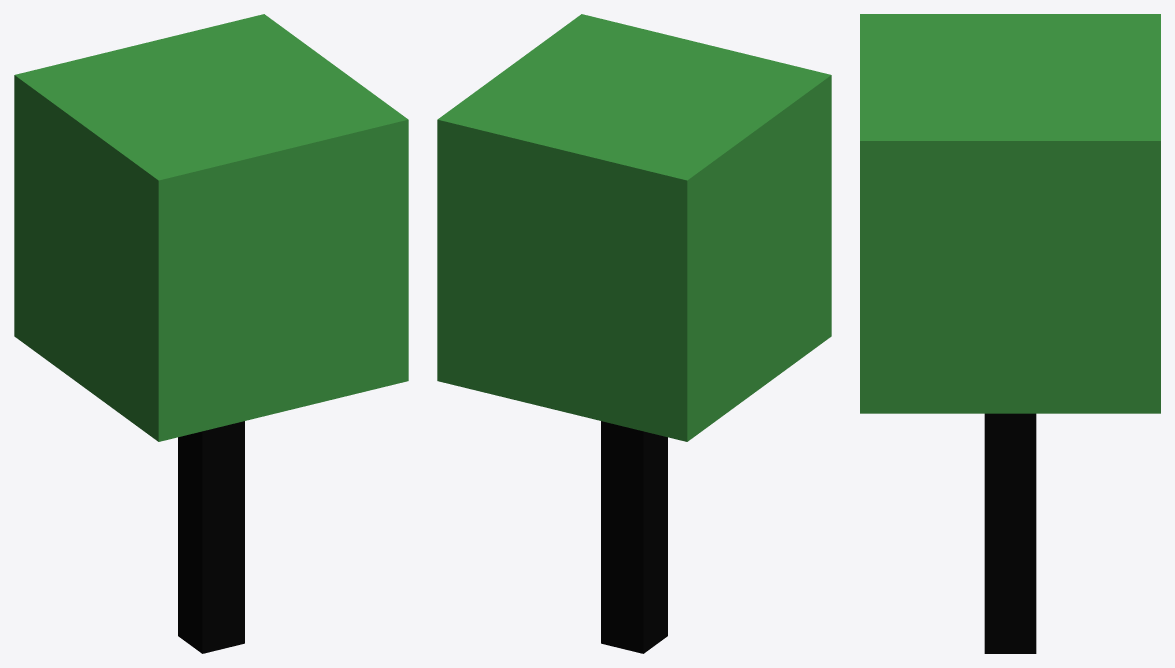
The model's file is Tree2.fbx.
3 views of the same model, side by side, from view 1: azimuth 30°, elevation 25°; view 2: azimuth 150°, elevation 25°; view 3: azimuth 270°, elevation 25° (orthographic). The views are drawn at different scales.
Visible parts, largest first — view 1: Cube.001, Cube; view 2: Cube.001, Cube; view 3: Cube.001, Cube.
Boxes of the visible parts, <box> form: Cube.001: <box>14,14,408,441</box>; Cube: <box>178,421,244,653</box>; Cube.001: <box>437,14,831,441</box>; Cube: <box>601,421,667,653</box>; Cube.001: <box>860,14,1160,413</box>; Cube: <box>984,413,1036,653</box>.
Size of the model in its own units: 293 by 607 by 293.
